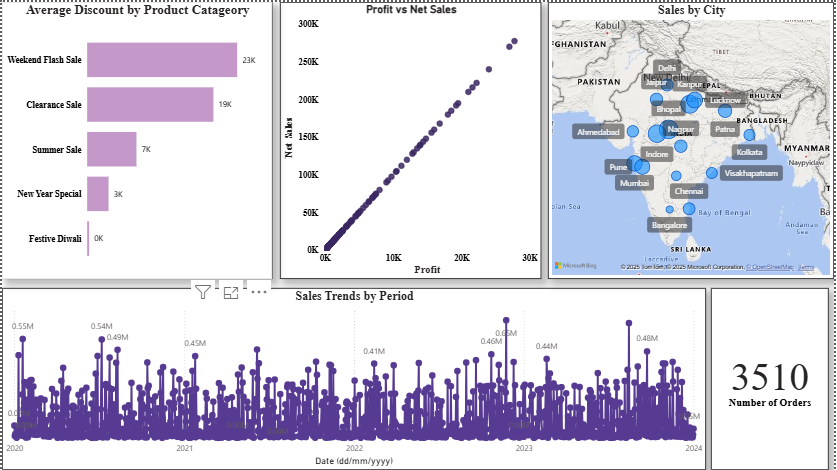

Layout of this report page (visuals, bound fields, positions):
{"tool":"powerbi","page":{"name":"Over view","canvas":[1280,720],"ordinal":0},"visuals":[{"type":"scatterChart","title":"Profit vs Net Sales","fields":{"X":["Fact Table.Profit"],"Y":["Fact Table.Net Sales"]},"box":[427.3,0,402.4,425.9],"z":0},{"type":"lineChart","title":"Sales Trends by Period","fields":{"Category":["Fact Table.Date (dd/mm/yyyy).Variation.Date Hierarchy.Year"],"Y":["Sum(Fact Table.Net Sales)"]},"box":[0,440.5,1082.9,279.5],"z":1000},{"type":"barChart","title":"Average Discount by Product Catageory","fields":{"Y":["Avg(Fact Table.Discount Value)"],"Category":["Dim Promotion.Promotion Name"]},"box":[0,0,415.6,425.9],"z":2000},{"type":"map","title":"Sales by City","fields":{"Category":["Dim Customers.City"],"Size":["Sum(Fact Table.Net Sales)"]},"box":[840,0,440.5,425.9],"z":3000},{"type":"card","fields":{"Values":["Count(Fact Table.Order ID)"]},"box":[1090.2,440.5,181.5,279.5],"z":4000}]}

Visuals, with their boxes in screenshot pixels (x1, y1, x2, y2), scaled from the page's 1280x720 canvas onto the 837x470 screenshot:
"Profit vs Net Sales" scatterChart: [279, 0, 543, 278]
"Sales Trends by Period" lineChart: [0, 288, 708, 469]
"Average Discount by Product Catageory" barChart: [0, 0, 272, 278]
"Sales by City" map: [549, 0, 836, 278]
card - Count(Fact Table.Order ID): [713, 288, 832, 469]
